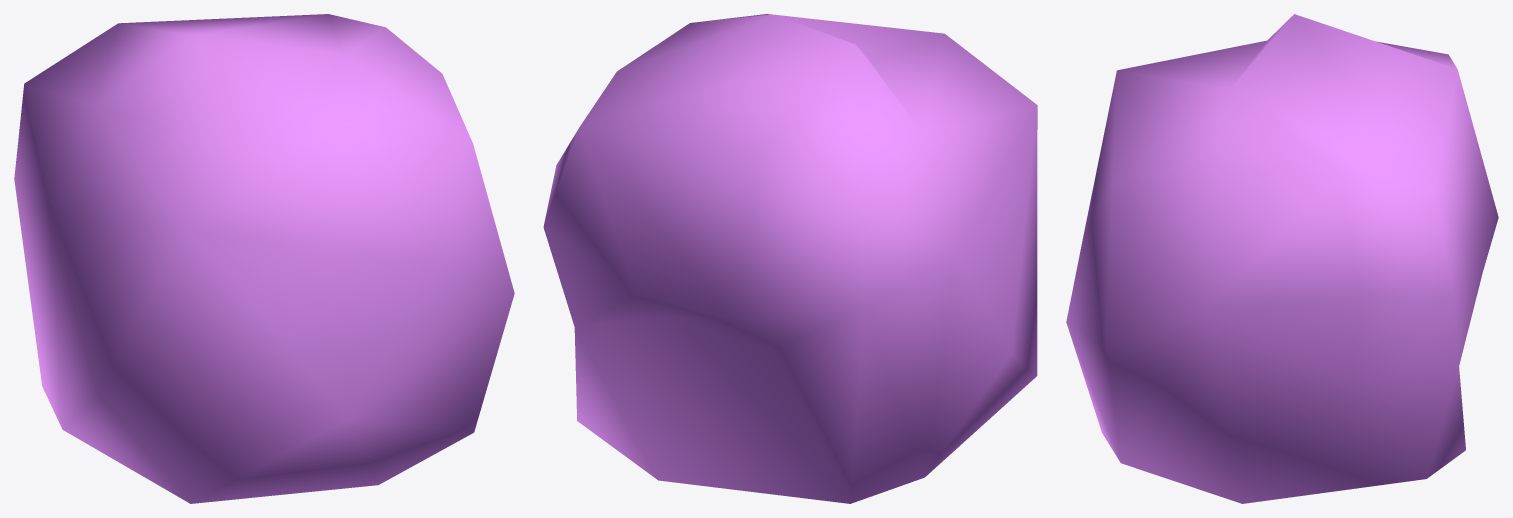
Rendered from metal-common.glb.
3 renders of one model, left to right at view 1: azimuth 30°, elevation 25°; view 2: azimuth 150°, elevation 25°; view 3: azimuth 270°, elevation 25°, orthographic. The views are drawn at different scales.
Parts seen in each view (by area): view 1: Cube; view 2: Cube; view 3: Cube.
Boxes of the visible parts, x1,y1,x2,y2 form: Cube: (14,14,514,503); Cube: (543,14,1037,503); Cube: (1066,14,1498,503).
Bounding box in the file's own units: 1.39 × 1.46 × 1.37.
